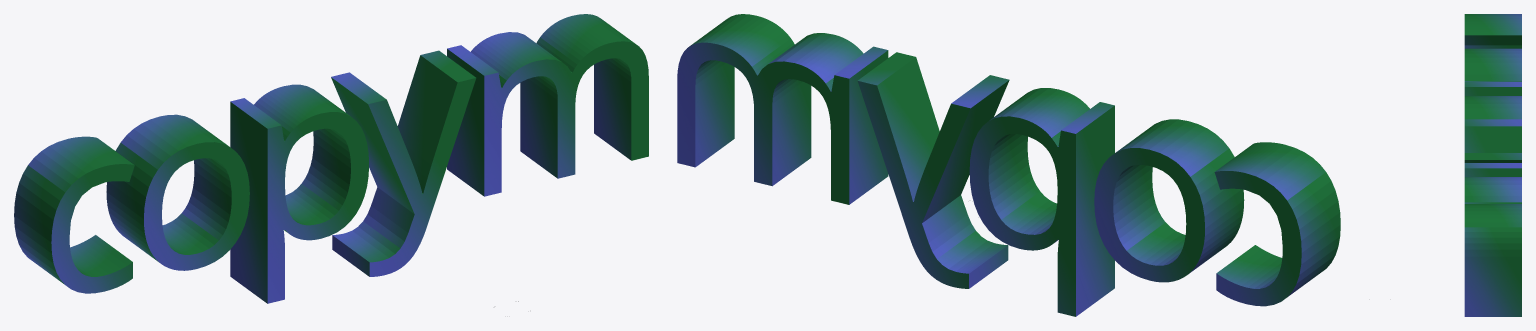
File: COPYMI.glb
The picture shows the model from 3 angles, left to right: view 1: azimuth 30°, elevation 25°; view 2: azimuth 150°, elevation 25°; view 3: azimuth 270°, elevation 25°; orthographic projection. The views are drawn at different scales.
Parts seen in each view (by area): view 1: 3D Text - m, 3D Text - p, 3D Text - y, 3D Text - o, 3D Text - c; view 2: 3D Text - m, 3D Text - p, 3D Text - y, 3D Text - o, 3D Text - c; view 3: 3D Text - m, 3D Text - y, 3D Text - p, 3D Text - c, 3D Text - o.
Boxes of the visible parts, x1=… form: 3D Text - m: x1=447, y1=14, x2=648, y2=196; 3D Text - p: x1=230, y1=84, x2=368, y2=303; 3D Text - y: x1=331, y1=50, x2=476, y2=276; 3D Text - o: x1=106, y1=114, x2=249, y2=270; 3D Text - c: x1=14, y1=136, x2=134, y2=293; 3D Text - m: x1=677, y1=14, x2=888, y2=204; 3D Text - p: x1=969, y1=88, x2=1114, y2=316; 3D Text - y: x1=857, y1=52, x2=1009, y2=288; 3D Text - o: x1=1094, y1=119, x2=1244, y2=282; 3D Text - c: x1=1214, y1=142, x2=1340, y2=306; 3D Text - m: x1=1464, y1=163, x2=1521, y2=316; 3D Text - y: x1=1464, y1=119, x2=1521, y2=162; 3D Text - p: x1=1464, y1=81, x2=1521, y2=119; 3D Text - c: x1=1464, y1=14, x2=1521, y2=48; 3D Text - o: x1=1464, y1=48, x2=1521, y2=81.
Bounding box in the file's own units: 0.7454 × 0.2241 × 0.2157.
Materials: 6 (5 with a texture image).
